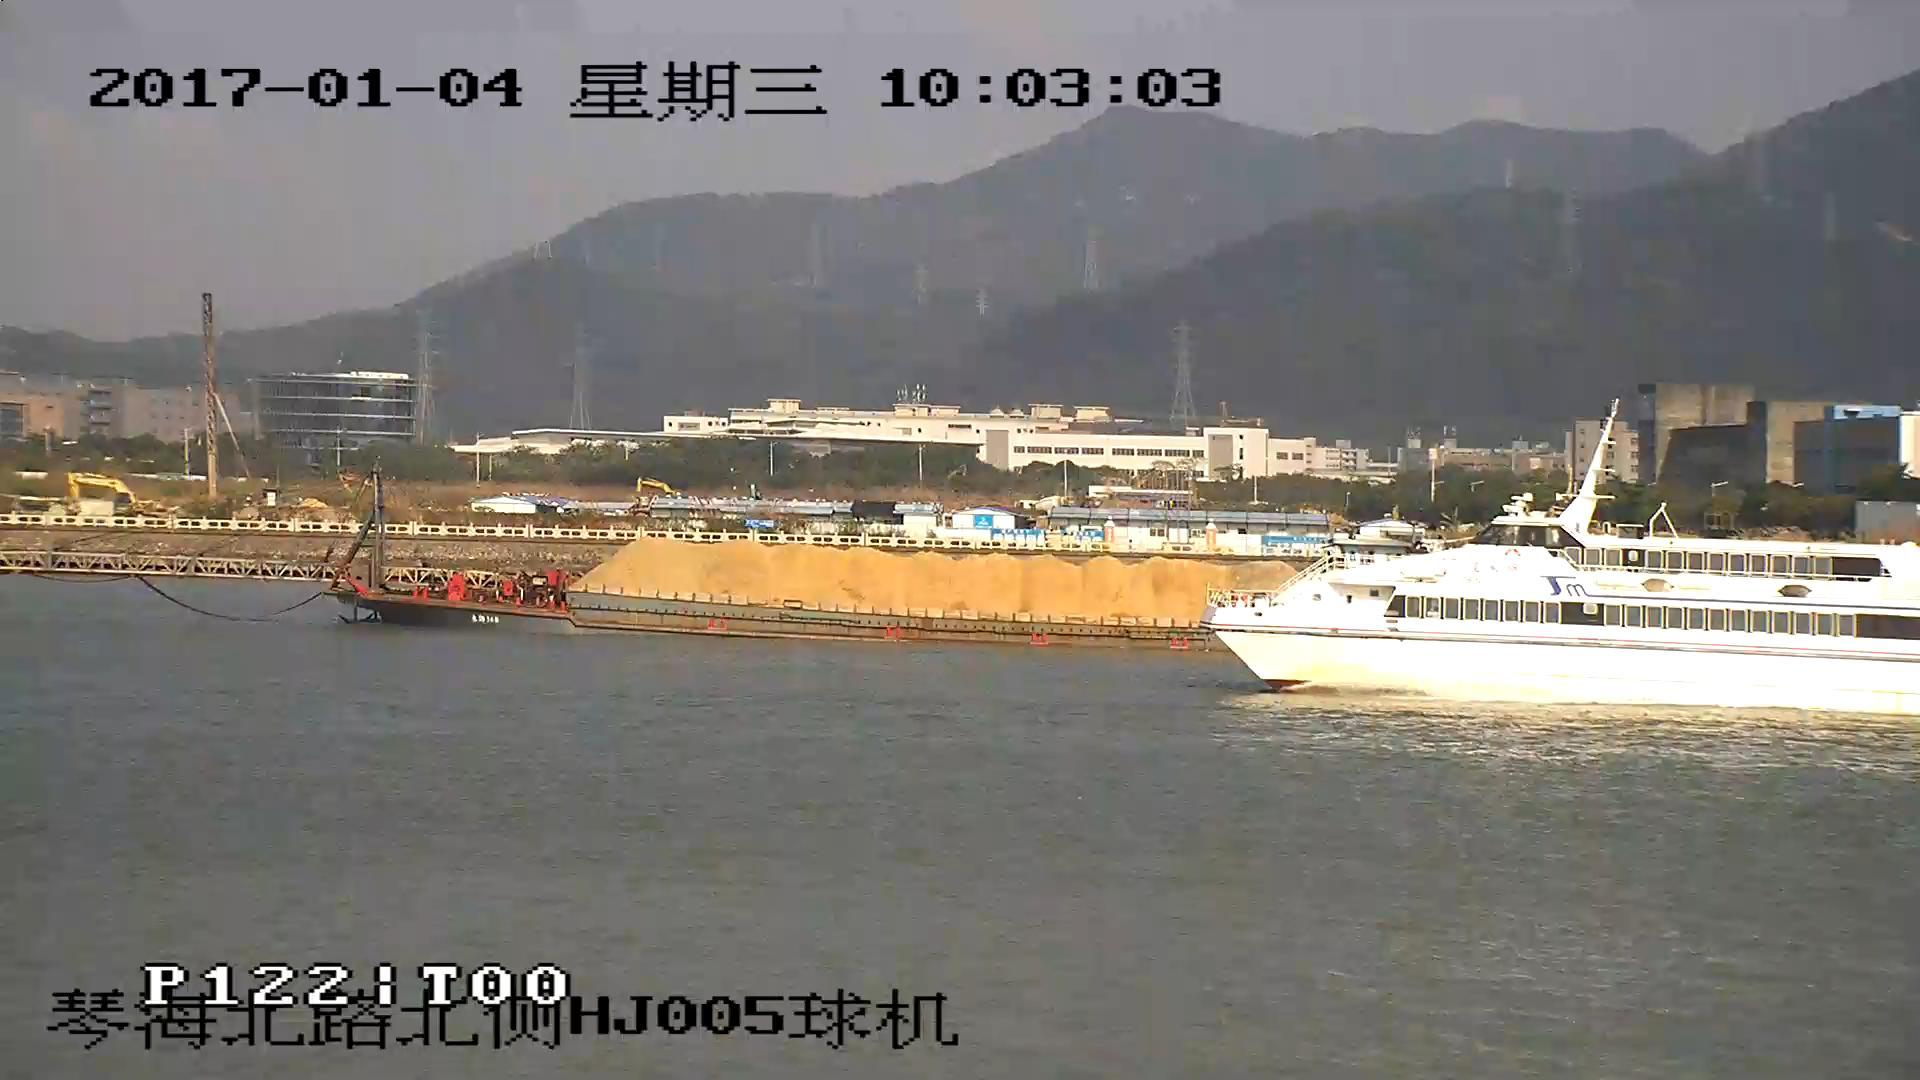Ship: (1211, 407, 1920, 711), (3, 477, 1207, 649)
